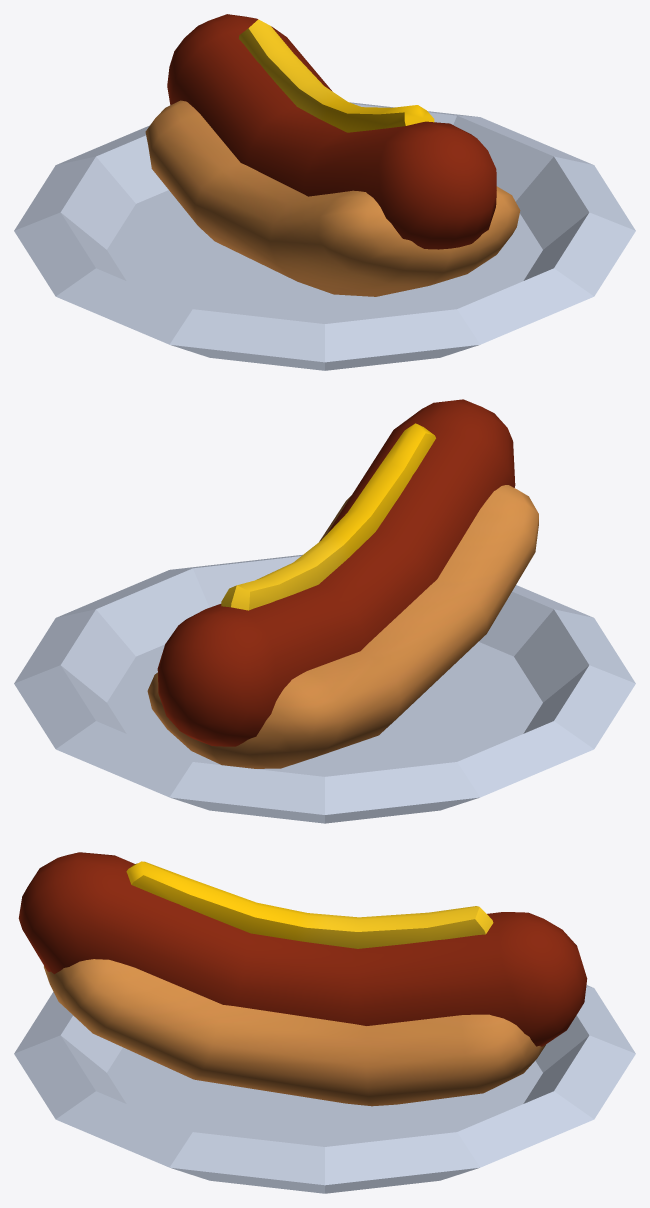
The model's file is Hotdog.fbx.
3 views of the same model, one above another, from view 1: azimuth 30°, elevation 25°; view 2: azimuth 150°, elevation 25°; view 3: azimuth 270°, elevation 25° (orthographic).
Parts seen in each view (by area): view 1: HotDog_Stand_HotDog_Stand_0.001; view 2: HotDog_Stand_HotDog_Stand_0.001; view 3: HotDog_Stand_HotDog_Stand_0.001.
Boxes of the visible parts, x1,y1,x2,y2 form: HotDog_Stand_HotDog_Stand_0.001: (14, 14, 635, 370); HotDog_Stand_HotDog_Stand_0.001: (14, 399, 635, 823); HotDog_Stand_HotDog_Stand_0.001: (14, 852, 635, 1193).
Size of the model in its own units: 53.09 by 22.17 by 53.09.
